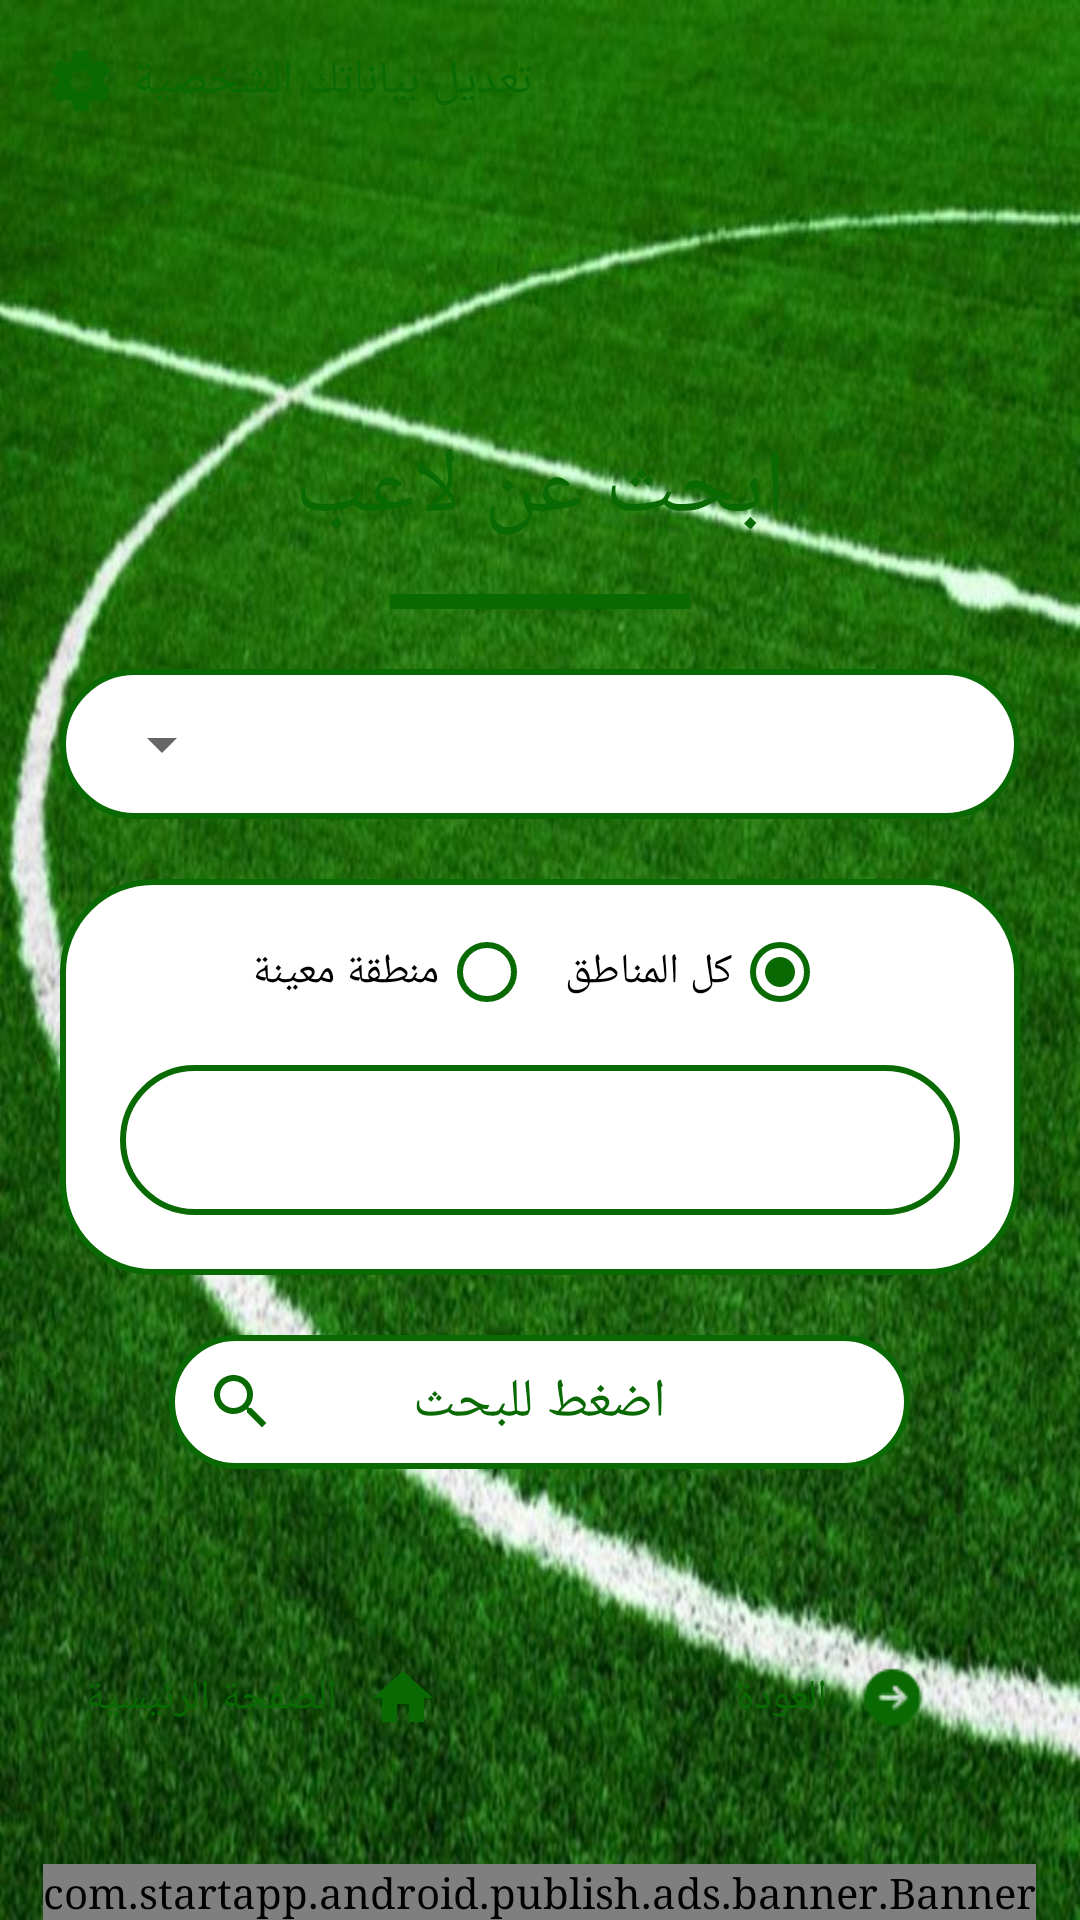

Icons on this 1080px x 1920px Android screen, each with its box as (x1, y1, x2, y2):
home: (367, 1662, 439, 1734)
search: (214, 1375, 266, 1427)
